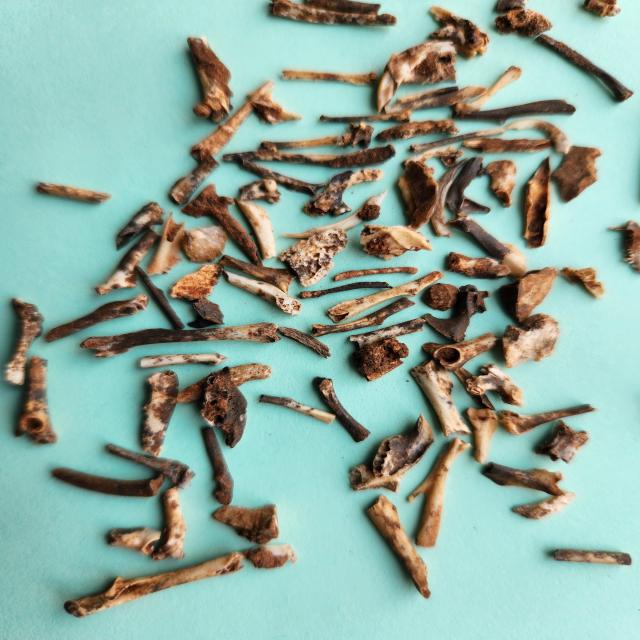fossil: (62, 548, 246, 621), (76, 320, 282, 361), (361, 493, 436, 601), (404, 436, 475, 550), (186, 80, 279, 166), (345, 412, 440, 494), (532, 33, 636, 106), (180, 181, 267, 268), (322, 268, 448, 324), (374, 37, 462, 113), (42, 290, 154, 347), (276, 187, 391, 240), (444, 214, 532, 280), (180, 32, 240, 126), (408, 356, 475, 440), (93, 225, 162, 299), (218, 142, 400, 170), (198, 363, 255, 450), (103, 440, 200, 491), (10, 354, 61, 450), (419, 279, 494, 343), (274, 227, 351, 289), (231, 151, 332, 198), (297, 166, 388, 218), (310, 372, 375, 444), (175, 361, 279, 406), (42, 464, 169, 500), (416, 3, 496, 60), (495, 397, 602, 439), (309, 298, 418, 338), (137, 368, 185, 458), (220, 267, 304, 317), (132, 262, 190, 334), (263, 0, 402, 30), (1, 294, 46, 386), (519, 152, 559, 254), (447, 97, 583, 126), (392, 157, 441, 234), (500, 312, 565, 370), (377, 83, 490, 116), (419, 329, 503, 373), (215, 253, 305, 294), (431, 154, 472, 244), (478, 458, 570, 498), (551, 140, 604, 209), (455, 64, 526, 115), (233, 196, 285, 265), (208, 501, 284, 547), (148, 483, 192, 562), (199, 422, 238, 509), (356, 222, 438, 263), (165, 152, 224, 208), (444, 154, 496, 217), (112, 199, 170, 254), (348, 336, 413, 384), (144, 210, 190, 277), (530, 416, 592, 465), (408, 126, 509, 156), (256, 390, 340, 426), (466, 361, 529, 409), (512, 262, 560, 325), (502, 116, 572, 157), (371, 116, 463, 146), (344, 315, 427, 348), (33, 178, 115, 210), (274, 66, 382, 90), (296, 278, 397, 303), (507, 490, 584, 522), (447, 363, 498, 411), (167, 261, 226, 302), (242, 90, 305, 128), (605, 213, 640, 280), (493, 5, 560, 40), (463, 406, 502, 466), (274, 323, 334, 361), (136, 348, 231, 371), (441, 250, 513, 280), (254, 130, 340, 155), (550, 546, 639, 570), (480, 159, 521, 210), (102, 523, 164, 556), (559, 262, 607, 304), (459, 136, 558, 156), (331, 262, 420, 284), (316, 108, 418, 126), (243, 541, 303, 571), (184, 296, 232, 331), (236, 176, 288, 207), (393, 83, 463, 106), (332, 120, 378, 152), (304, 0, 386, 17), (575, 0, 628, 20), (489, 0, 538, 14)
